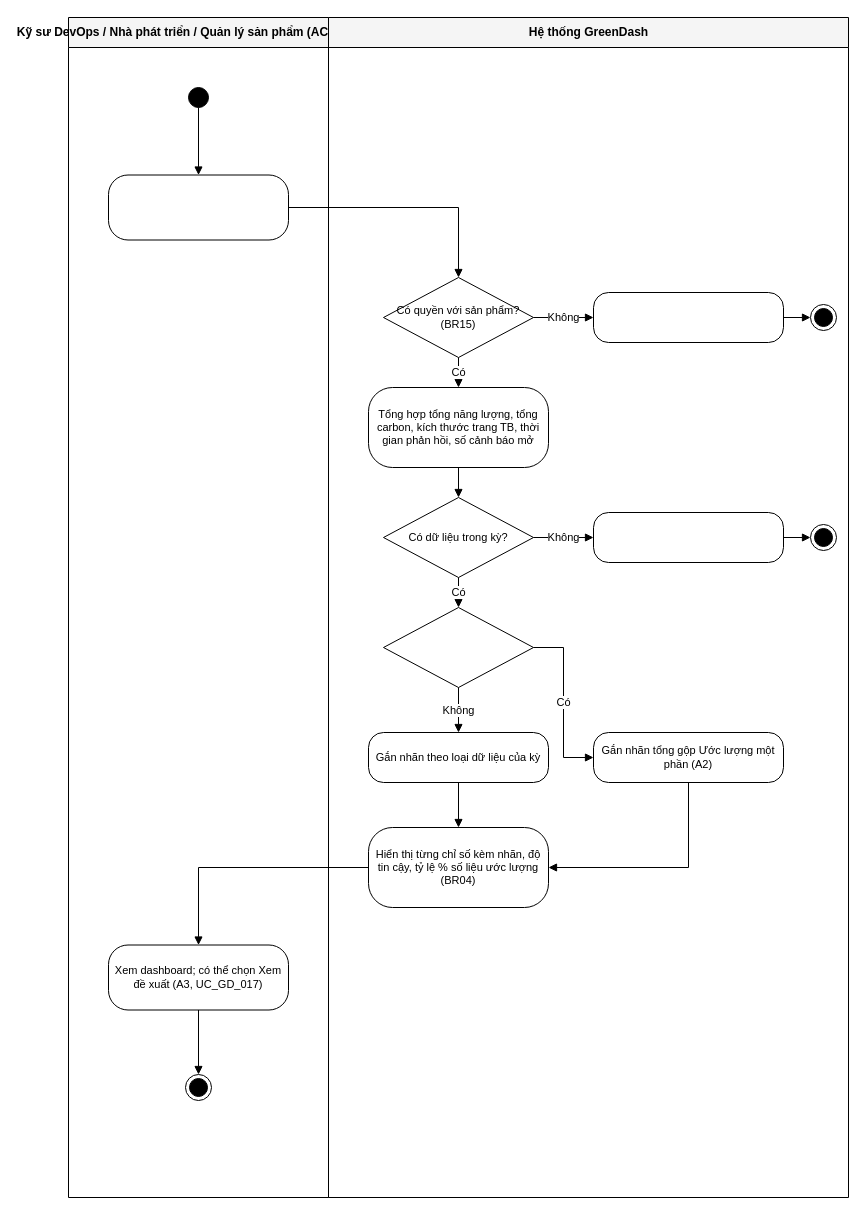
Some shapes in this 866 by 1215 pixel diagram are drawn without their labels. The box of each missing label's shape, as (x1, y1, x2, y2) in pixels:
Hiển thị Chưa có dữ liệu (A1): (592, 512, 784, 562)
Kỳ gồm cả số liệu Đo và Ước lượng?: (382, 606, 534, 688)
Mở Dashboard, chọn sản phẩm, môi trường, khoảng thời gian: (108, 174, 288, 240)
Từ chối truy cập, báo không có quyền: (592, 292, 784, 342)
